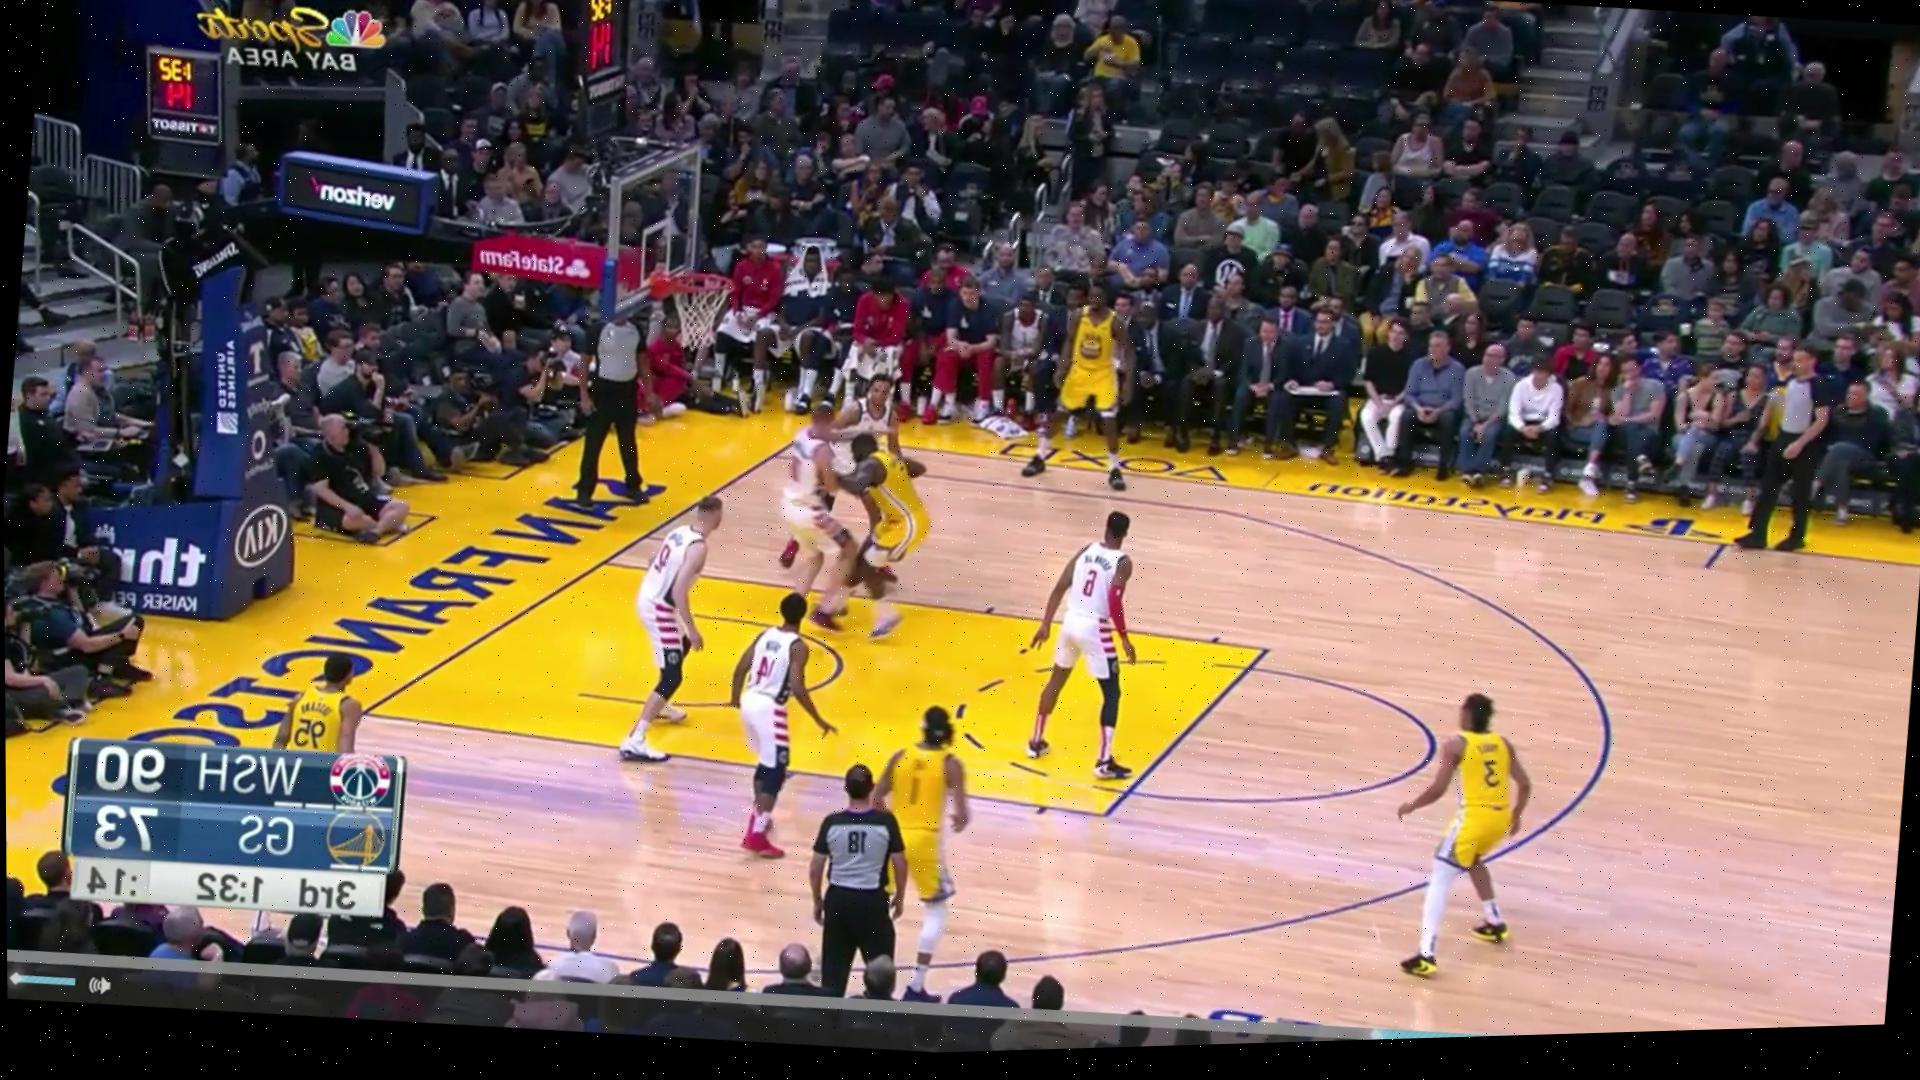foul: (748, 402, 937, 637)
